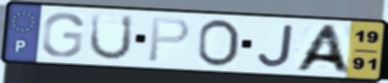A: (290, 23, 353, 75)
G: (39, 11, 86, 59)
J: (256, 23, 297, 69)
O: (195, 18, 241, 68)
P: (146, 16, 193, 64)
U: (86, 12, 136, 62)
